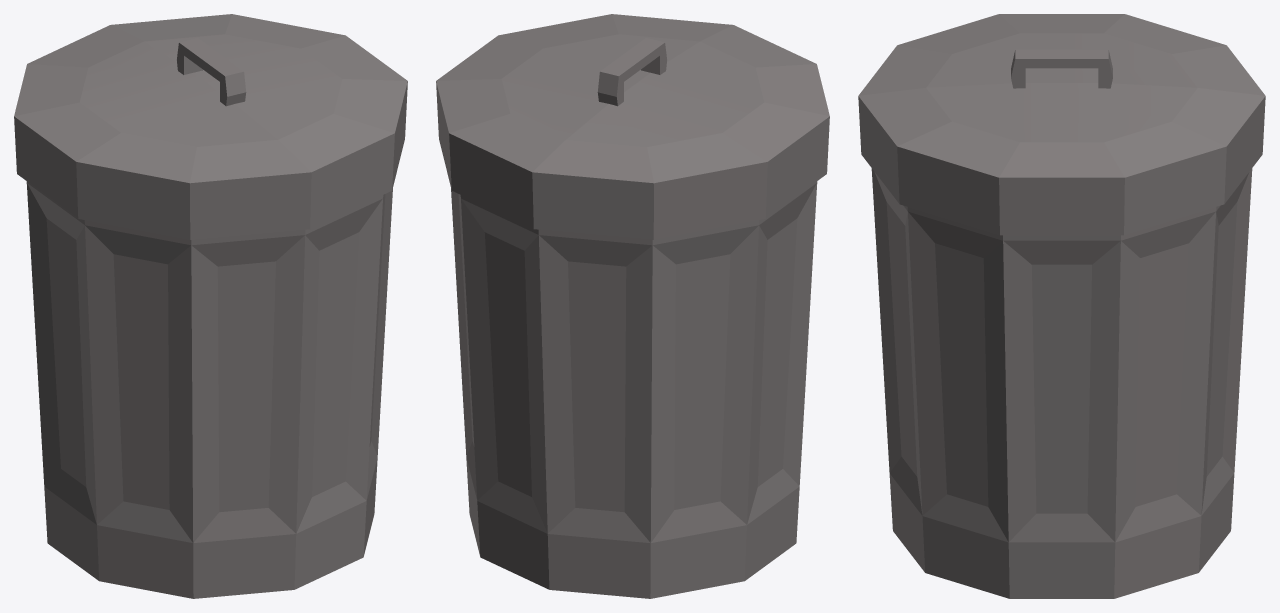
File: trash_can.glb
The picture shows the model from 3 angles, left to right: view 1: azimuth 30°, elevation 25°; view 2: azimuth 150°, elevation 25°; view 3: azimuth 270°, elevation 25°; orthographic projection.
Visible parts, largest first — view 1: trash_can_base, trash_can_lid; view 2: trash_can_base, trash_can_lid; view 3: trash_can_base, trash_can_lid.
Boxes of the visible parts, x1,y1,x2,y2 form: trash_can_base: [26, 181, 392, 598]; trash_can_lid: [14, 14, 407, 239]; trash_can_base: [451, 181, 817, 598]; trash_can_lid: [436, 14, 829, 239]; trash_can_base: [871, 168, 1252, 598]; trash_can_lid: [858, 14, 1265, 235].
Bounding box in the file's own units: 0.5233 × 0.7109 × 0.5502.
1 material, 1 textured.
